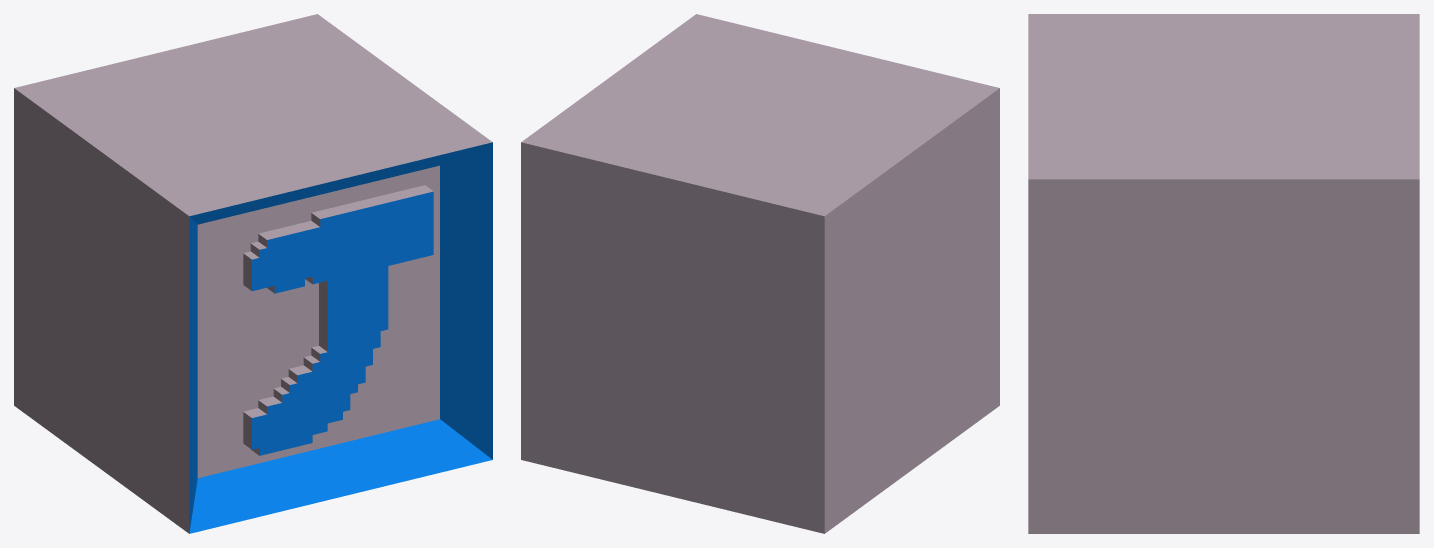
Rendered from BlockJ.fbx.
The picture shows the model from 3 angles, left to right: view 1: azimuth 30°, elevation 25°; view 2: azimuth 150°, elevation 25°; view 3: azimuth 270°, elevation 25°; orthographic projection. The views are drawn at different scales.
Parts seen in each view (by area): view 1: Cube; view 2: Cube; view 3: Cube.
Boxes of the visible parts, x1,y1,x2,y2 form: Cube: [14, 14, 492, 533]; Cube: [521, 14, 999, 533]; Cube: [1028, 14, 1419, 533].
Bounding box in the file's own units: 2000 × 2000 × 2000.
